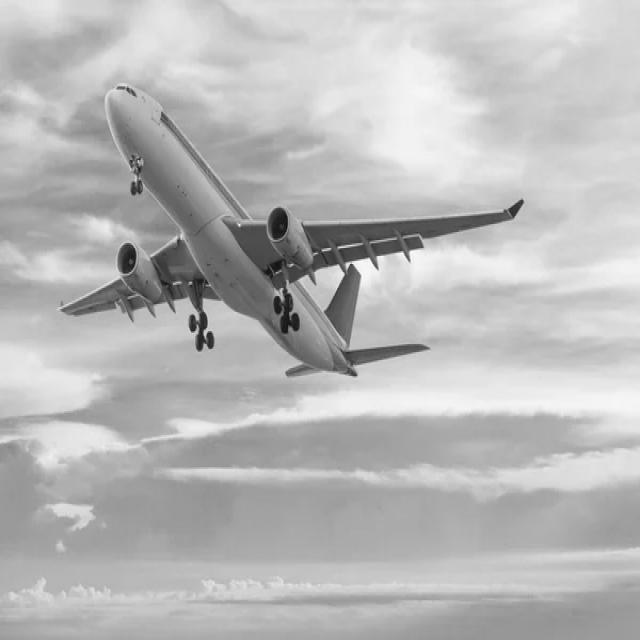Aircraft: (60, 83, 532, 375)
